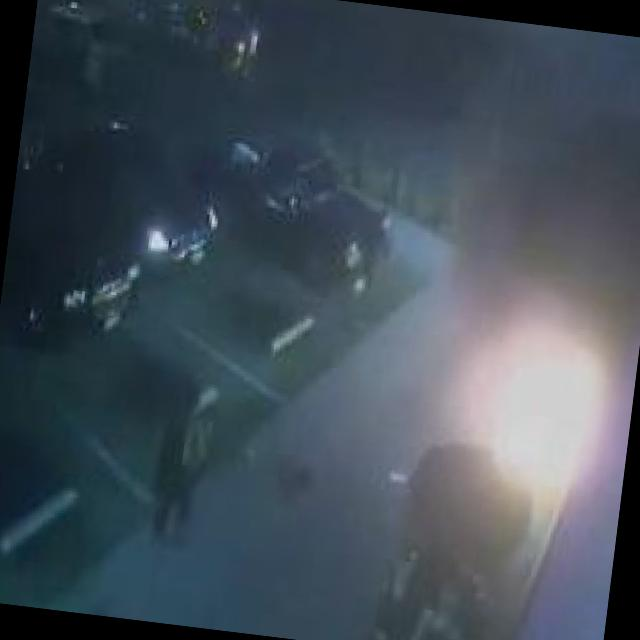fire: (438, 290, 625, 564)
